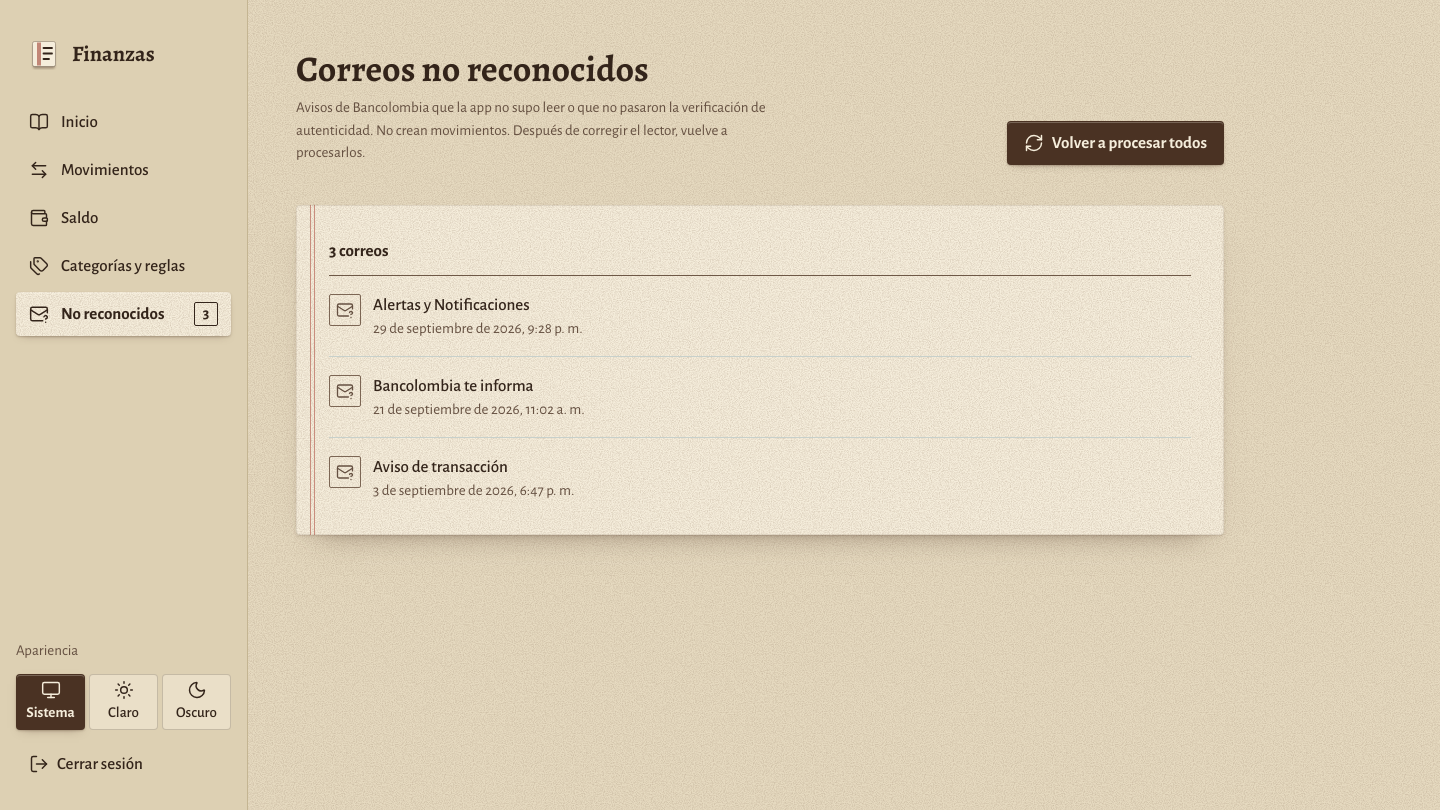
Correos no reconocidos › reprocesar: el que se reconoce se va, los otros se quedan y se cuentan
The width and height of the screenshot is (1440, 810).
Click the button "Volver a procesar todos": (1115, 143) top-left (1007, 121), bottom-right (1224, 165)
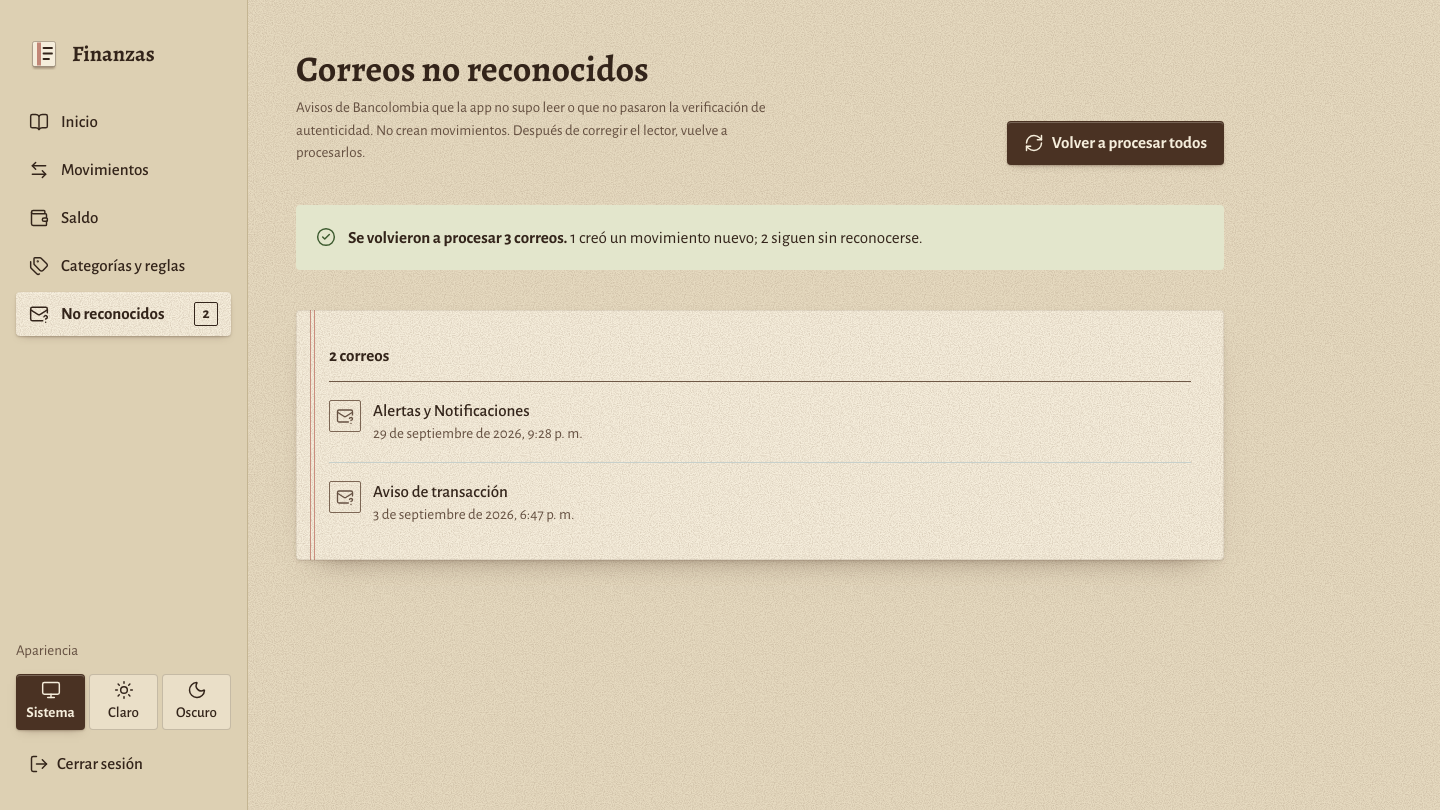
Now the message shows "Se volvieron a procesar 3 correos. 1 creó un movimiento nuevo; 2 siguen sin reconocerse.", box top-left (296, 205), bottom-right (1224, 270)
Now the heading named "correos?" reads "2 correos", box top-left (329, 347), bottom-right (389, 364)
